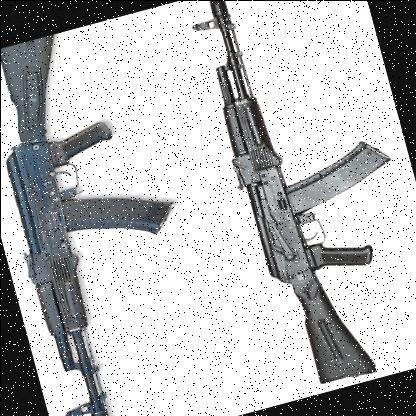rifle: (151, 0, 416, 406), (0, 14, 238, 416)
